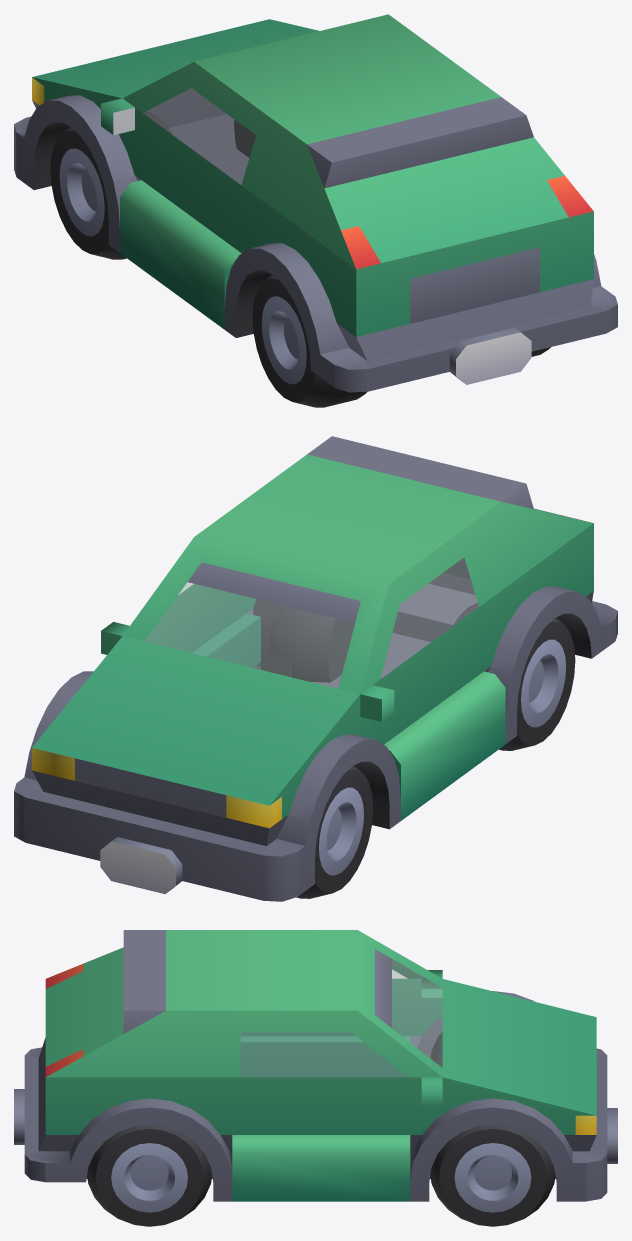
Rendered from hatchback-sports.glb.
3 renders of one model, top to bottom at view 1: azimuth 30°, elevation 25°; view 2: azimuth 150°, elevation 25°; view 3: azimuth 270°, elevation 25°, orthographic. The views are drawn at different scales.
Visible parts, largest first — view 1: body, wheel-back-left, wheel-front-left; view 2: body, wheel-back-left, wheel-front-left, wheel-back-right; view 3: body, wheel-back-right, wheel-front-right.
Boxes of the visible parts, x1,y1,x2,y2 form: body: (14,14,617,392); wheel-back-left: (252,274,367,407); wheel-front-left: (50,111,172,259); body: (14,436,617,901); wheel-back-left: (452,603,575,750); wheel-front-left: (296,765,373,898); wheel-back-right: (268,604,354,682); body: (14,930,617,1201); wheel-back-right: (87,1124,212,1226); wheel-front-right: (430,1124,555,1226).
Size of the model in its own units: 2.08 by 1.76 by 4.56.
2 materials, 1 textured.
